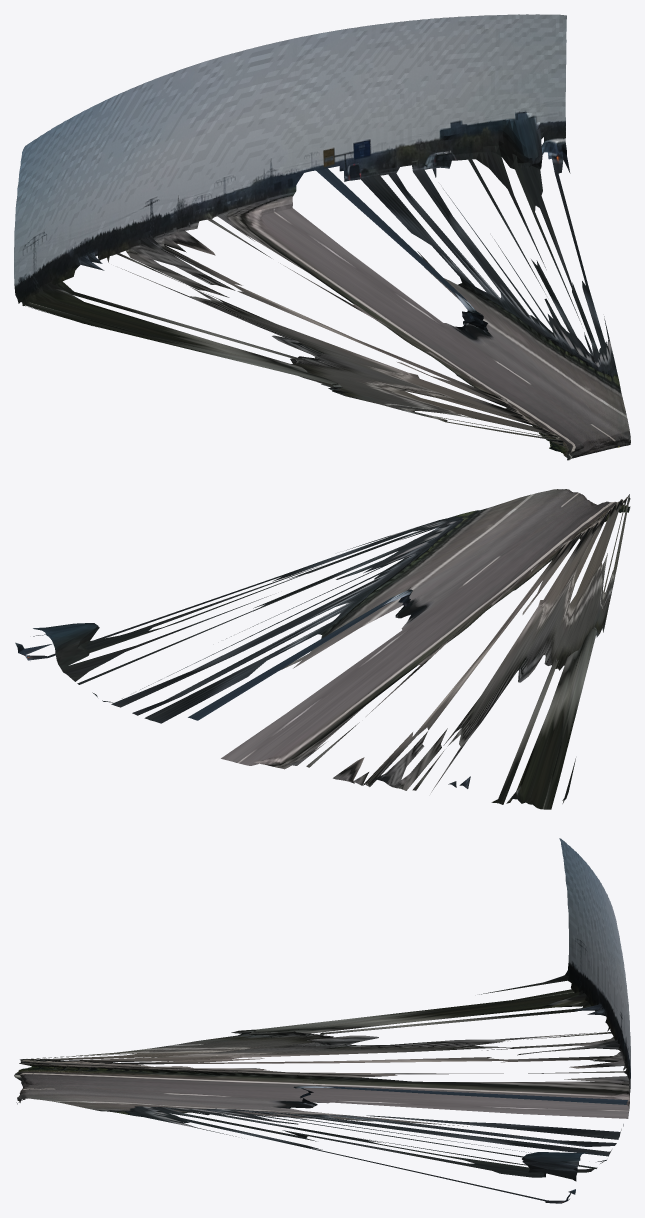
The picture shows the model from 3 angles, top to bottom: view 1: azimuth 30°, elevation 25°; view 2: azimuth 150°, elevation 25°; view 3: azimuth 270°, elevation 25°; orthographic projection. The views are drawn at different scales.
Parts seen in each view (by area): view 1: defaultobject; view 2: defaultobject; view 3: defaultobject.
Part boxes in pixels (x1,y1,x2,y2): defaultobject: (14, 14, 630, 460); defaultobject: (15, 489, 630, 809); defaultobject: (14, 838, 630, 1203).
Size of the model in its own units: 41.16 by 12.61 by 44.52.
Materials: 1 (1 with a texture image).
